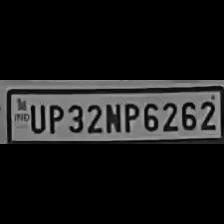2: (84, 100, 104, 134), (160, 100, 178, 132), (198, 98, 216, 130)
3: (64, 101, 84, 133)
6: (139, 100, 159, 132), (179, 99, 197, 130)
N: (104, 100, 120, 134)
P: (120, 100, 138, 134), (46, 102, 64, 134)
U: (26, 101, 44, 133)
